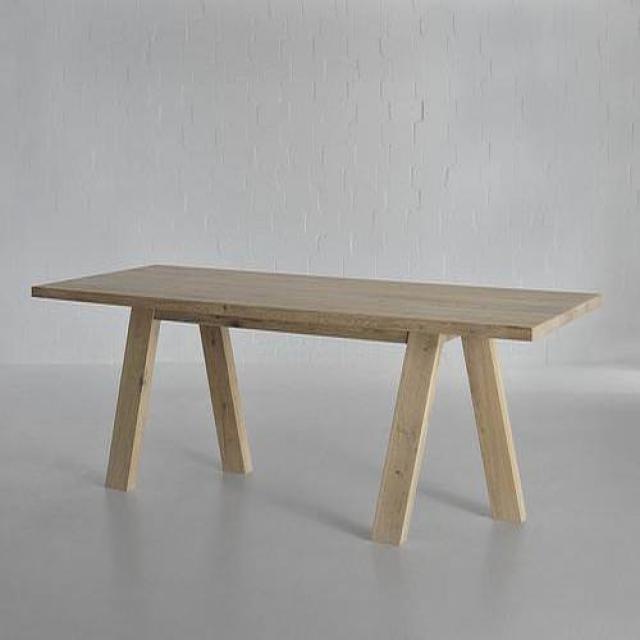table: (29, 265, 604, 548)
